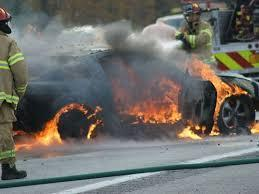fire: (9, 72, 257, 143)
